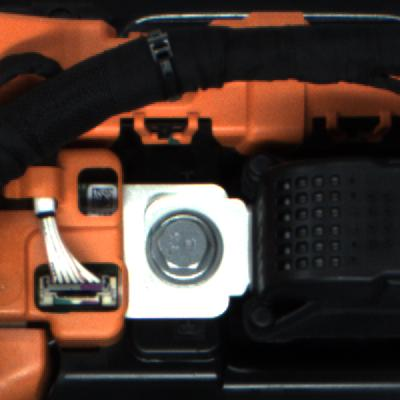nut_b: (136, 203, 240, 287)
